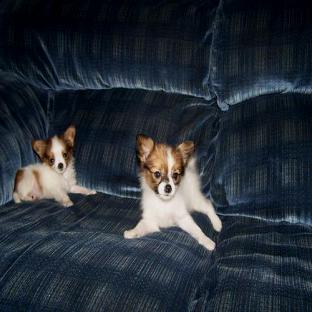Animal: (124, 135, 222, 250), (13, 126, 95, 206)
